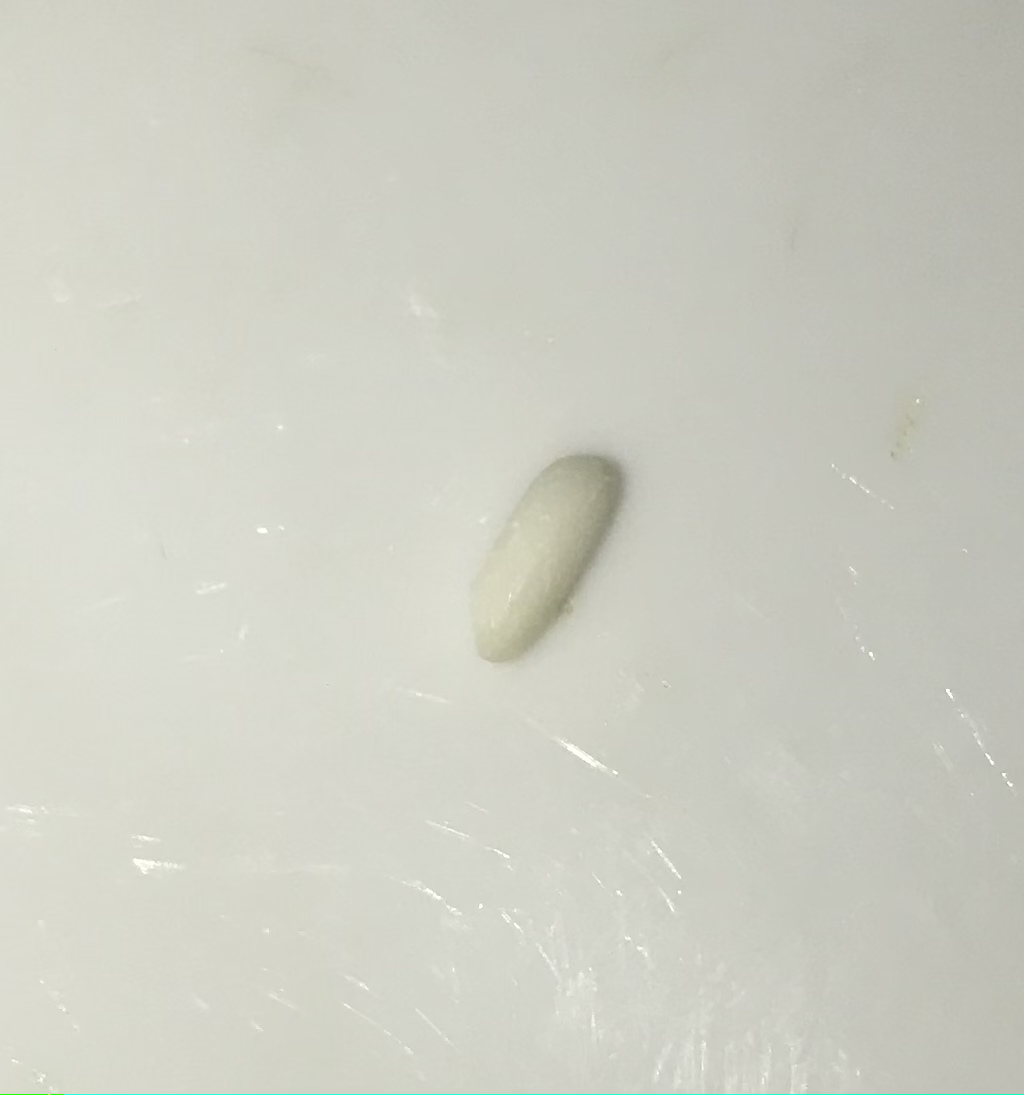Gao Nep Sap: (458, 431, 634, 674)
